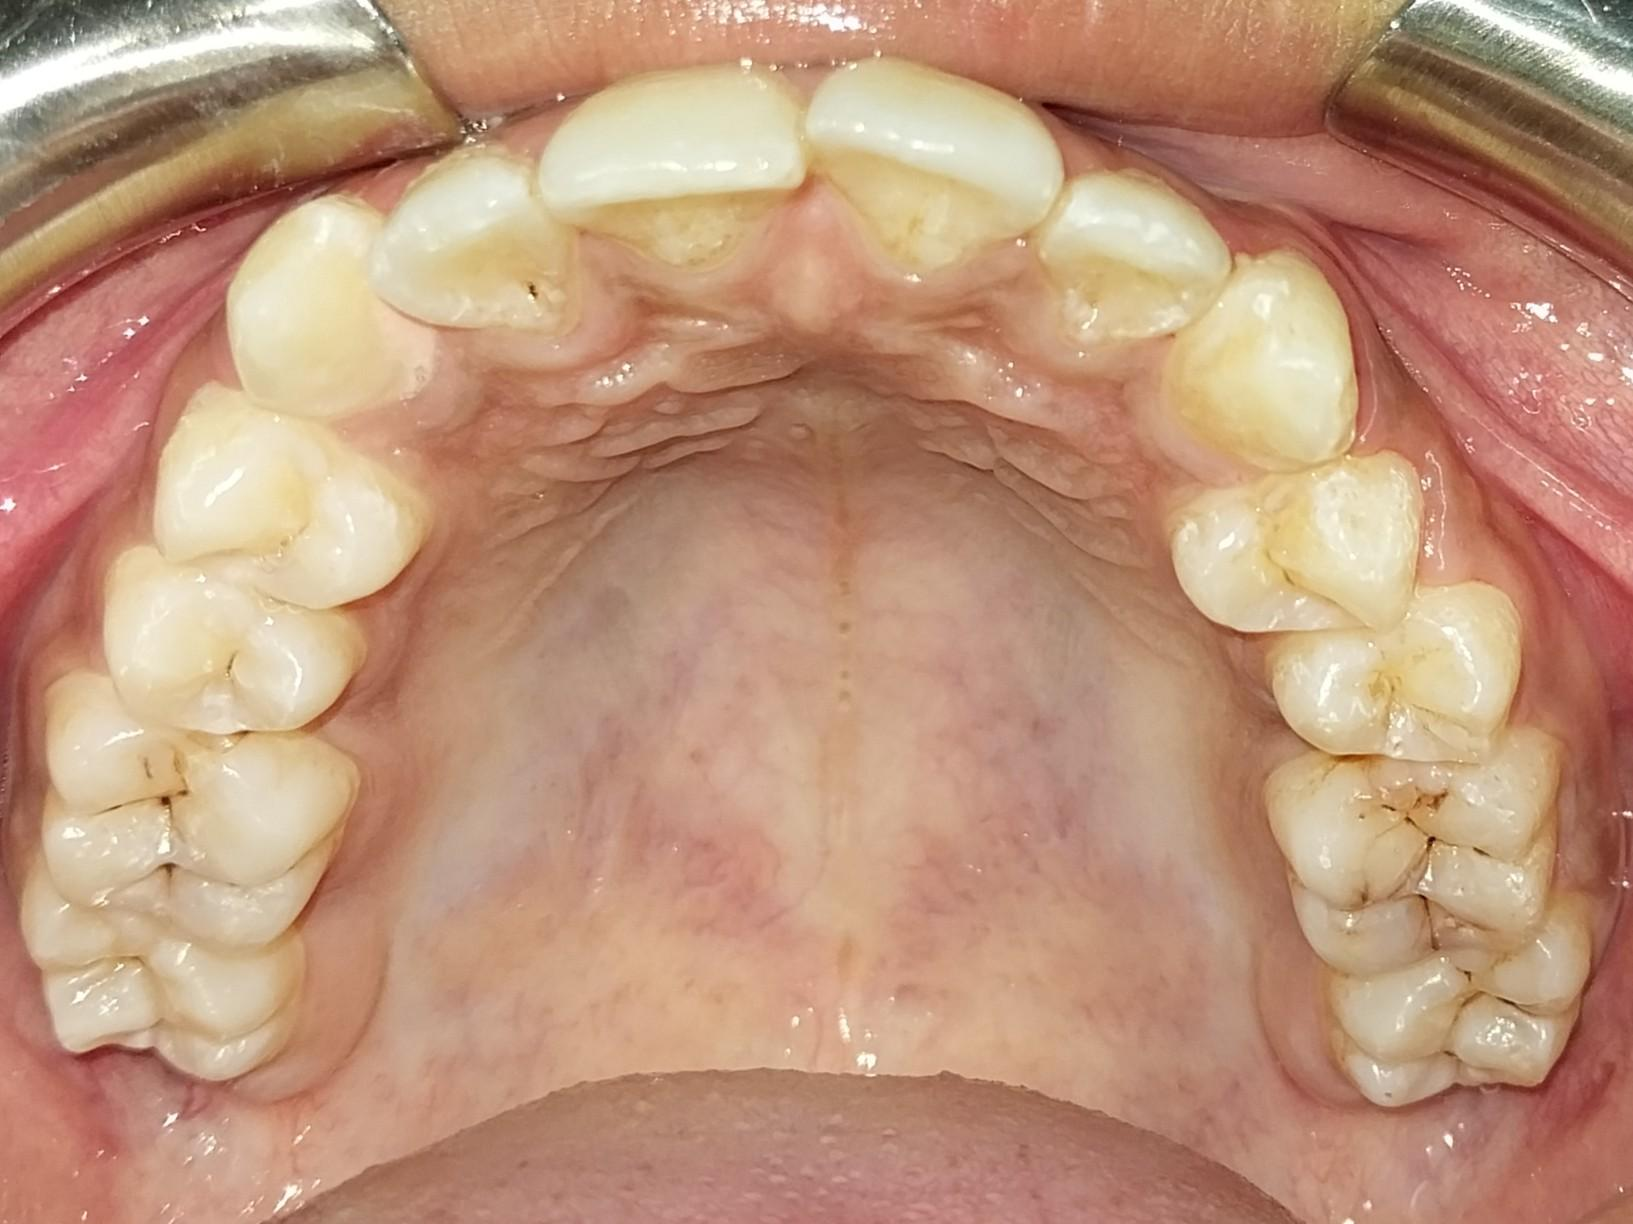D: (35, 670, 355, 950), (1266, 741, 1560, 977), (1327, 903, 1587, 1110), (98, 553, 359, 728), (367, 152, 574, 328)
